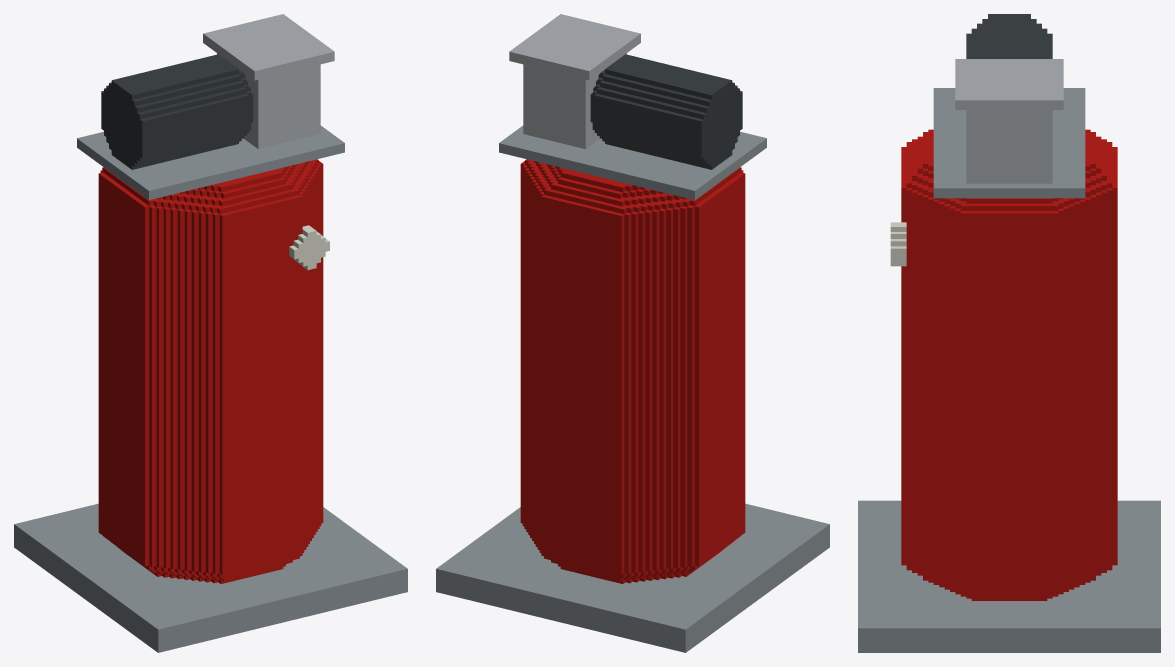
The model's file is air_compressor.glb.
The picture shows the model from 3 angles, left to right: view 1: azimuth 30°, elevation 25°; view 2: azimuth 150°, elevation 25°; view 3: azimuth 270°, elevation 25°; orthographic projection. The views are drawn at different scales.
Visible parts, largest first — view 1: air_compressor:compound; view 2: air_compressor:compound; view 3: air_compressor:compound.
Part boxes in pixels (left/top/right/bottom): air_compressor:compound: left=14, top=14, right=407, bottom=652; air_compressor:compound: left=436, top=14, right=829, bottom=652; air_compressor:compound: left=858, top=14, right=1160, bottom=652.
Size of the model in its own units: 0.56 by 1.1 by 0.56.
